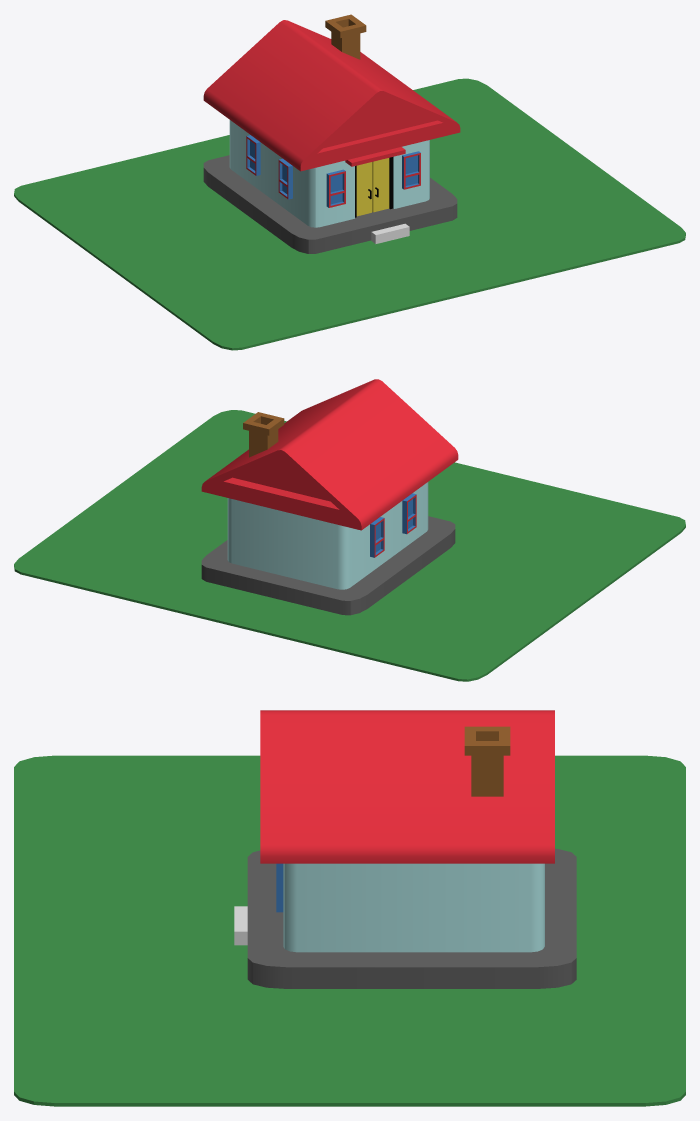
Rendered from house.fbx.
3 renders of one model, top to bottom at view 1: azimuth 30°, elevation 25°; view 2: azimuth 150°, elevation 25°; view 3: azimuth 270°, elevation 25°, orthographic. The views are drawn at different scales.
Visible parts, largest first — view 1: Plane.010, Cube.091, Cube.092, Cube.083, Cube.088, Cube.093, Cube.084, Cube.085, Cube.099, Cube.100, Cube.094; view 2: Plane.010, Cube.091, Cube.083, Cube.092, Cube.093, Cube.100, Cube.099; view 3: Plane.010, Cube.091, Cube.083, Cube.092, Cube.093.
Boxes of the visible parts, x1,y1,x2,y2 form: Plane.010: (14, 78, 685, 350); Cube.091: (203, 20, 460, 171); Cube.092: (203, 155, 457, 253); Cube.083: (229, 120, 429, 227); Cube.088: (356, 158, 389, 216); Cube.093: (325, 14, 366, 59); Cube.084: (326, 169, 345, 207); Cube.085: (402, 151, 420, 189); Cube.099: (246, 135, 260, 175); Cube.100: (278, 158, 292, 199); Cube.094: (371, 223, 409, 243); Plane.010: (14, 410, 685, 681); Cube.091: (201, 379, 458, 530); Cube.083: (227, 482, 428, 589); Cube.092: (201, 516, 455, 615); Cube.093: (243, 412, 284, 457); Cube.100: (402, 493, 416, 534); Cube.099: (370, 517, 384, 557); Plane.010: (14, 755, 685, 1106); Cube.091: (260, 710, 554, 863); Cube.083: (283, 863, 544, 952); Cube.092: (247, 848, 576, 988); Cube.093: (464, 726, 510, 796).
Bounding box in the file's own units: 110 × 33.64 × 90.23.
